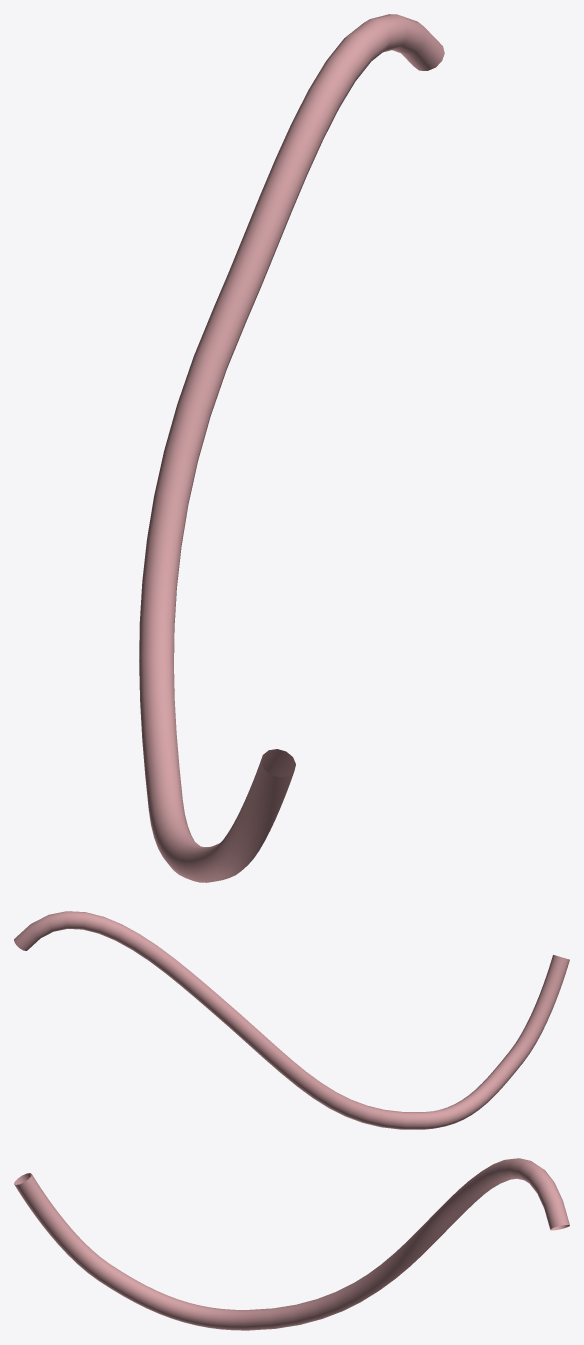
The picture shows the model from 3 angles, top to bottom: view 1: azimuth 30°, elevation 25°; view 2: azimuth 150°, elevation 25°; view 3: azimuth 270°, elevation 25°; orthographic projection. The views are drawn at different scales.
Parts seen in each view (by area): view 1: ZA_e40ff7c336335c7e; view 2: ZA_e40ff7c336335c7e; view 3: ZA_e40ff7c336335c7e.
Part boxes in pixels (x1=…): ZA_e40ff7c336335c7e: x1=139, y1=14, x2=444, y2=882; ZA_e40ff7c336335c7e: x1=14, y1=911, x2=569, y2=1129; ZA_e40ff7c336335c7e: x1=14, y1=1158, x2=569, y2=1330.
Size of the model in its own units: 0.0207 by 0.0158 by 0.0269.
